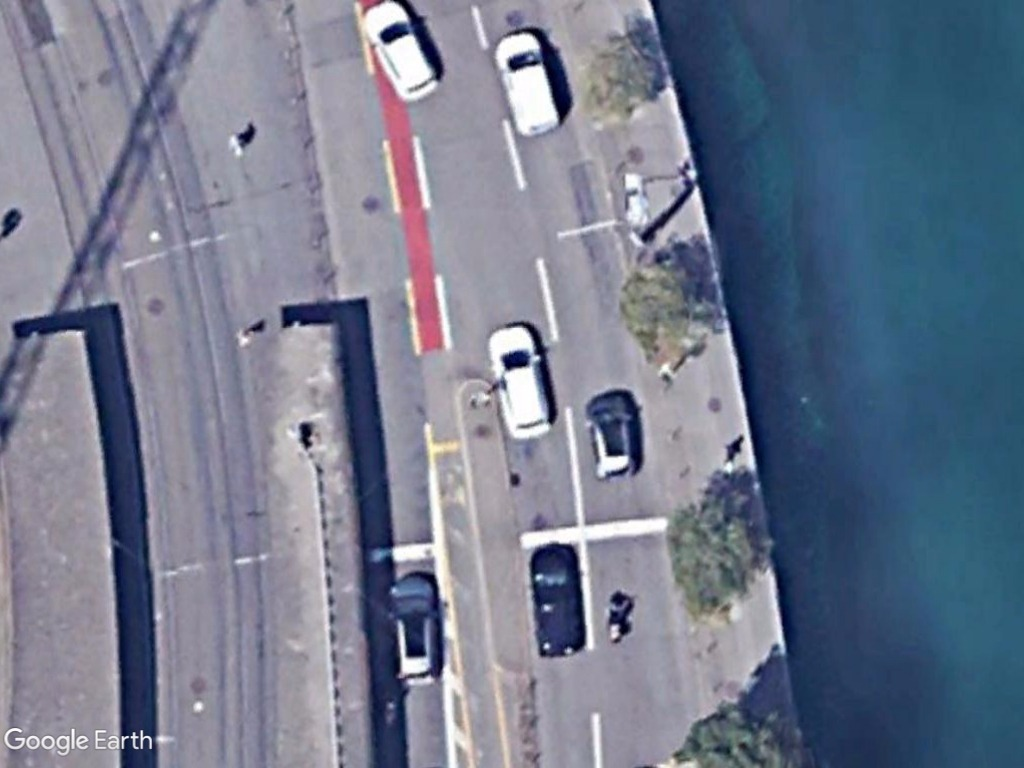car: (485, 321, 558, 441), (360, 0, 440, 108), (492, 24, 563, 139), (387, 569, 443, 692), (584, 388, 638, 482)
